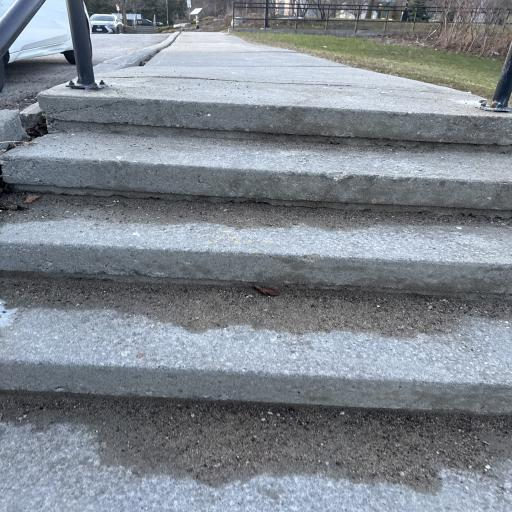Stairs: (0, 34, 512, 412)
